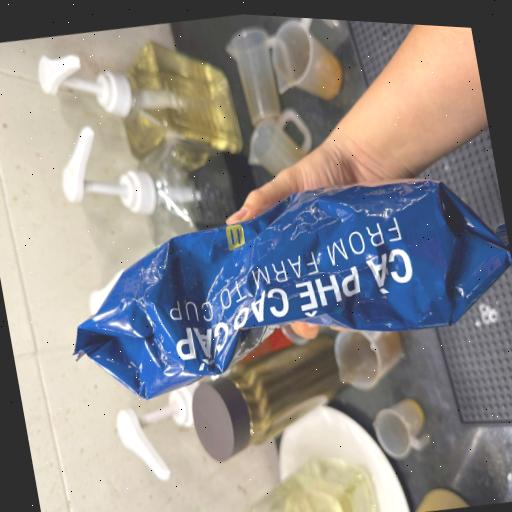cafe_hat: (74, 178, 512, 397)
